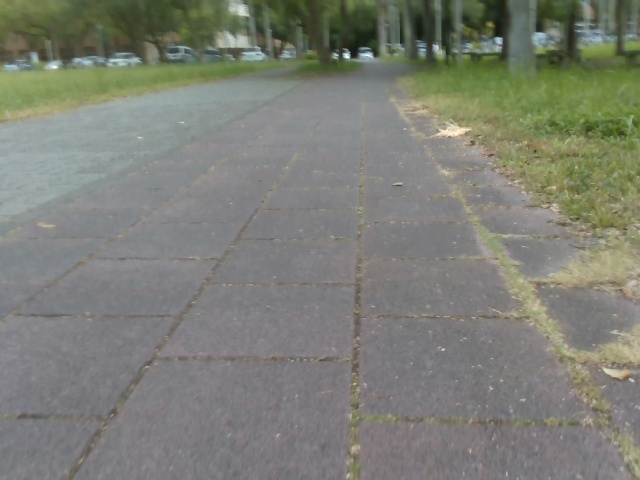grass: (0, 39, 639, 247), (0, 0, 508, 63), (534, 0, 639, 58)
road: (0, 66, 639, 479)
